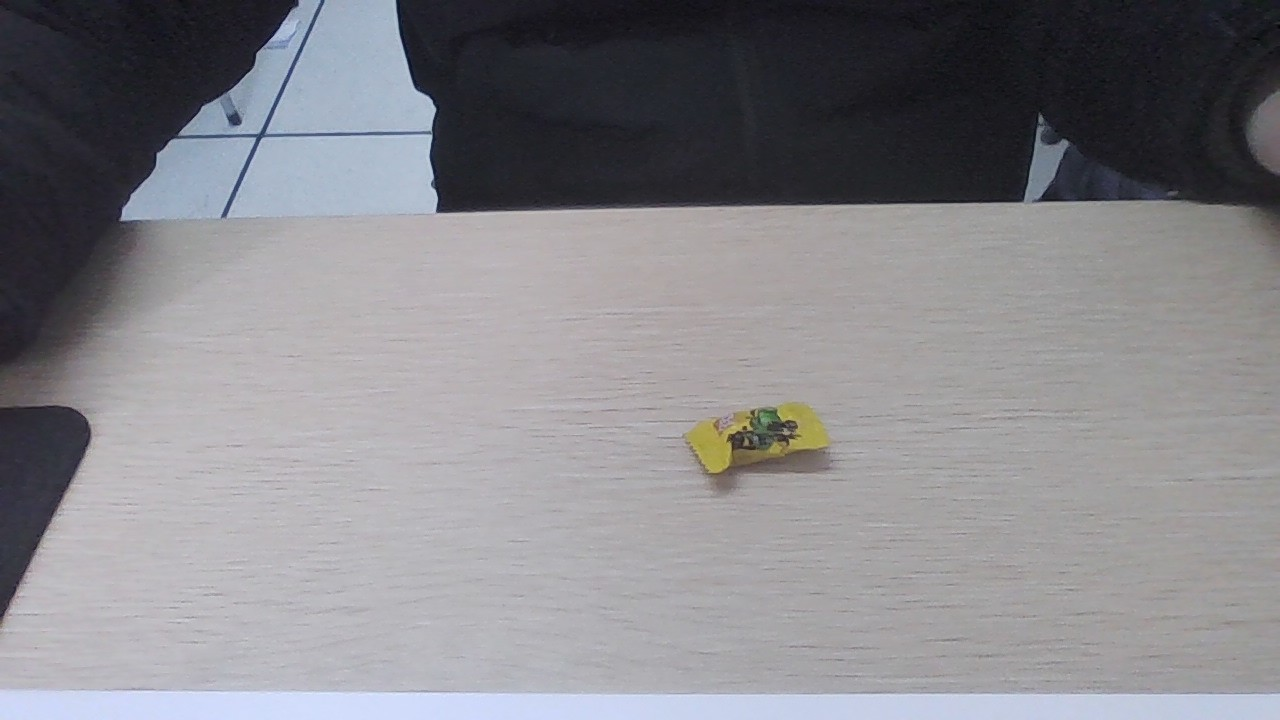CY-sugar: (691, 402, 817, 475)
